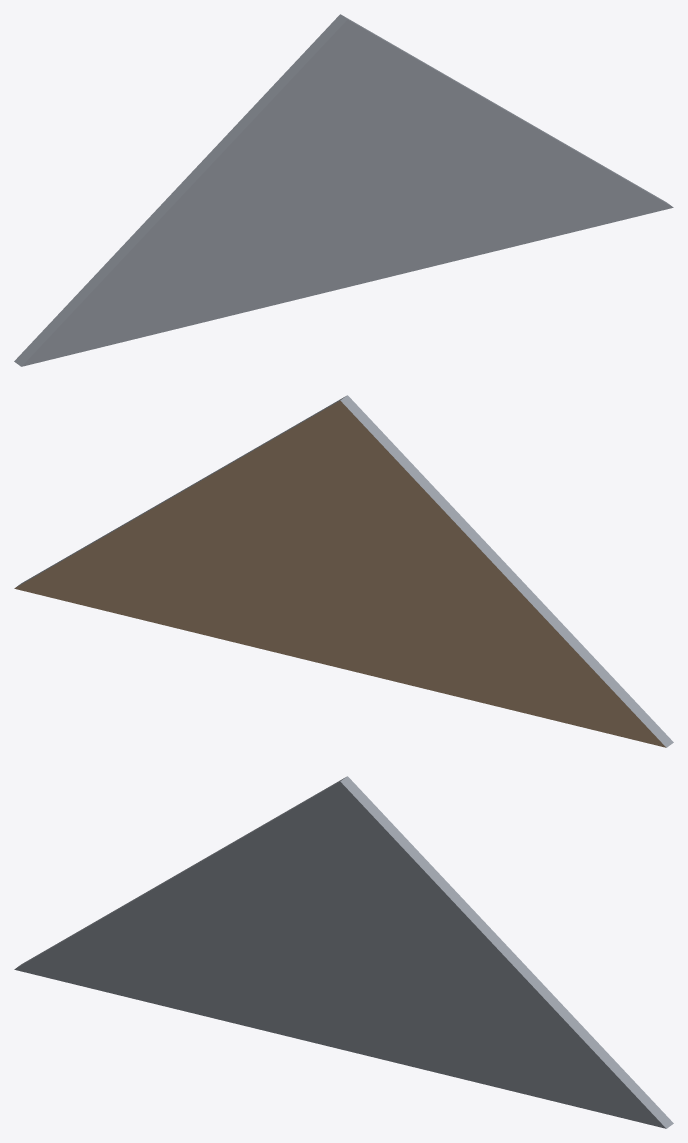
The model's file is Wall2_C6_18.fbx.
3 views of the same model, one above another, from view 1: azimuth 30°, elevation 25°; view 2: azimuth 150°, elevation 25°; view 3: azimuth 330°, elevation 25° (orthographic).
Parts seen in each view (by area): view 1: Wall2_C6_18; view 2: Wall2_C6_18; view 3: Wall2_C6_18.
Boxes of the visible parts, left/top/right/bottom form: Wall2_C6_18: left=14, top=14, right=673, bottom=366; Wall2_C6_18: left=14, top=395, right=673, bottom=747; Wall2_C6_18: left=14, top=776, right=673, bottom=1128.
Bounding box in the file's own units: 765 × 300 × 15.
